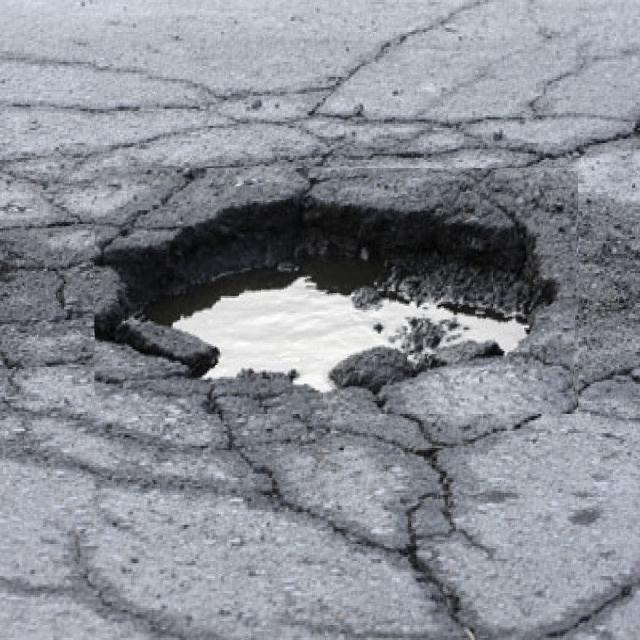Pothole: (95, 168, 579, 414)
